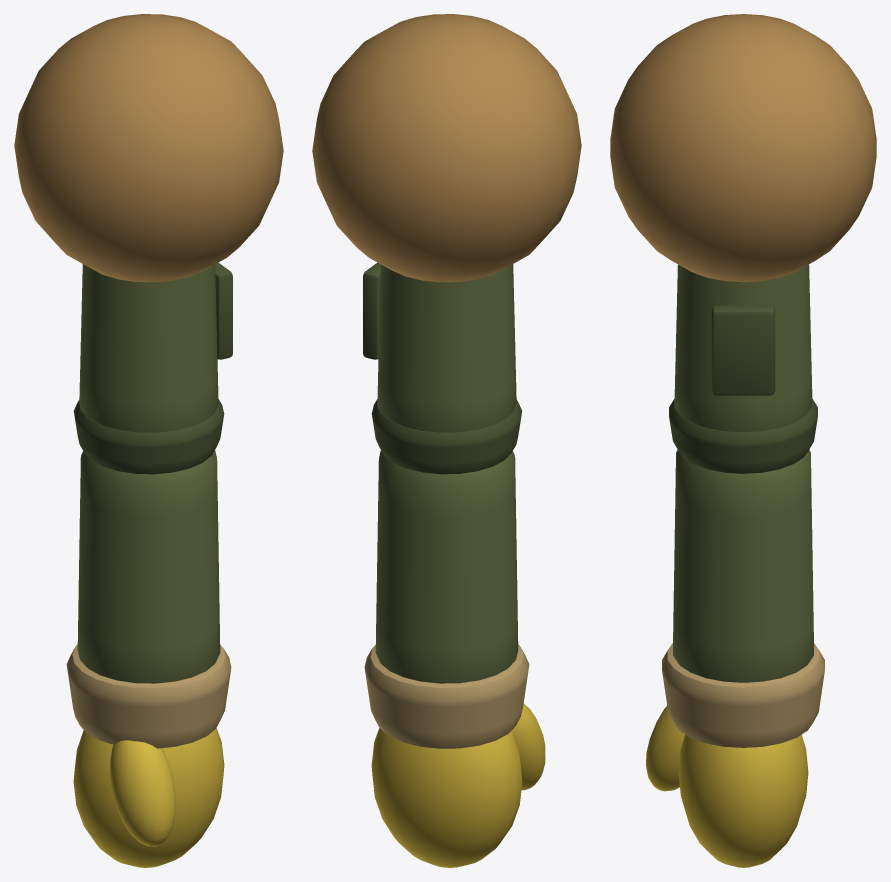
The model's file is Arm_Trooper_R.fbx.
3 views of the same model, side by side, from view 1: azimuth 30°, elevation 25°; view 2: azimuth 150°, elevation 25°; view 3: azimuth 270°, elevation 25° (orthographic).
Parts seen in each view (by area): view 1: Arm_Trooper_R; view 2: Arm_Trooper_R; view 3: Arm_Trooper_R.
Boxes of the visible parts, box(x1,y1,x2,y2) form: Arm_Trooper_R: box(14, 14, 283, 867); Arm_Trooper_R: box(312, 14, 581, 867); Arm_Trooper_R: box(610, 14, 876, 867).
Size of the model in its own units: 0.0578 by 0.1981 by 0.0572.
